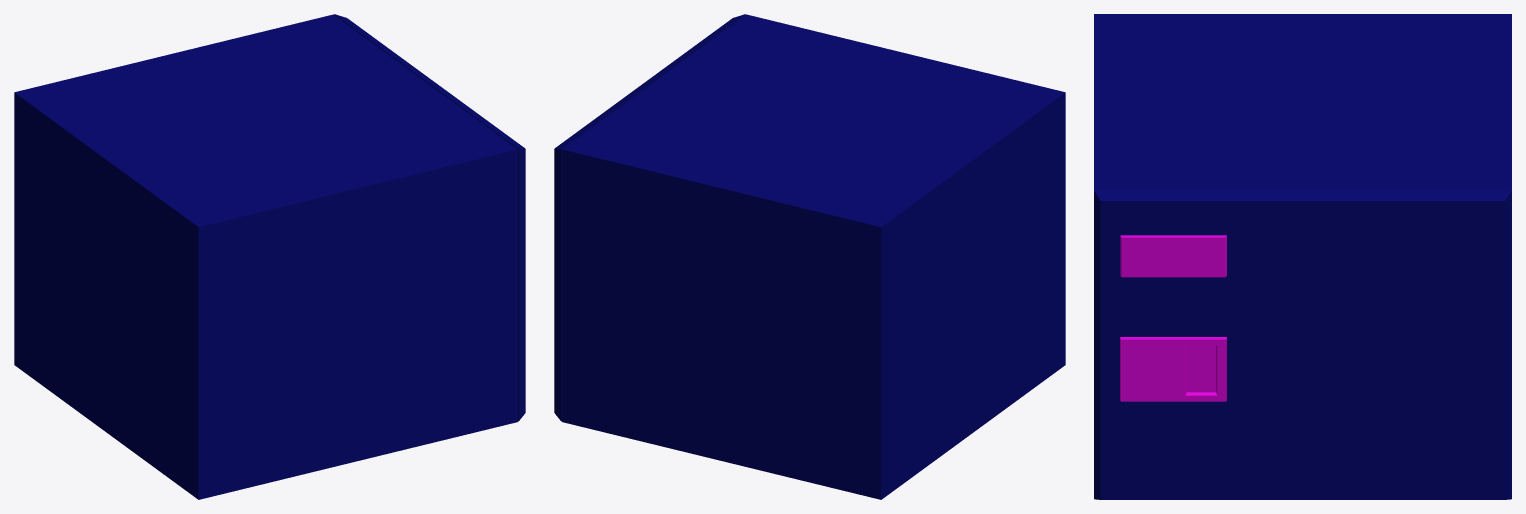
The model's file is prop_2_school cabinet.fbx.
The picture shows the model from 3 angles, left to right: view 1: azimuth 30°, elevation 25°; view 2: azimuth 150°, elevation 25°; view 3: azimuth 270°, elevation 25°; orthographic projection. The views are drawn at different scales.
Visible parts, largest first — view 1: SchoolCabinet, SchoolCabinet_Door; view 2: SchoolCabinet, SchoolCabinet_Door; view 3: SchoolCabinet_Door, SchoolCabinet.
Boxes of the visible parts, box(x1,y1,x2,y2) form: SchoolCabinet: box(14, 14, 517, 499); SchoolCabinet_Door: box(334, 14, 525, 421); SchoolCabinet: box(562, 14, 1065, 499); SchoolCabinet_Door: box(554, 14, 745, 421); SchoolCabinet_Door: box(1094, 190, 1511, 499); SchoolCabinet: box(1094, 14, 1511, 190).
Bounding box in the file's own units: 104 × 81.65 × 100.
